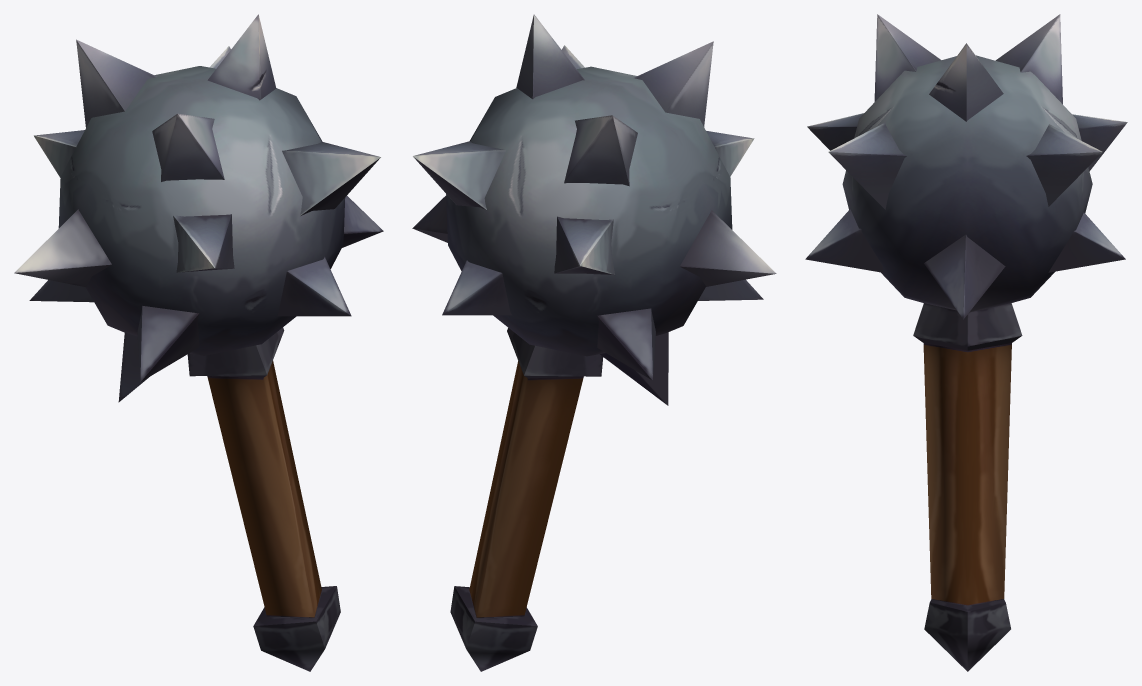
The model's file is monster_bear02_weapon01.FBX.
The picture shows the model from 3 angles, left to right: view 1: azimuth 30°, elevation 25°; view 2: azimuth 150°, elevation 25°; view 3: azimuth 270°, elevation 25°; orthographic projection. The views are drawn at different scales.
Visible parts, largest first — view 1: monster_bear02_weapon01; view 2: monster_bear02_weapon01; view 3: monster_bear02_weapon01.
Part boxes in pixels (x1,y1,x2,y2): monster_bear02_weapon01: (14,14,383,671); monster_bear02_weapon01: (412,14,776,671); monster_bear02_weapon01: (805,14,1127,671).
Bounding box in the file's own units: 65.9 × 55.55 × 115.
